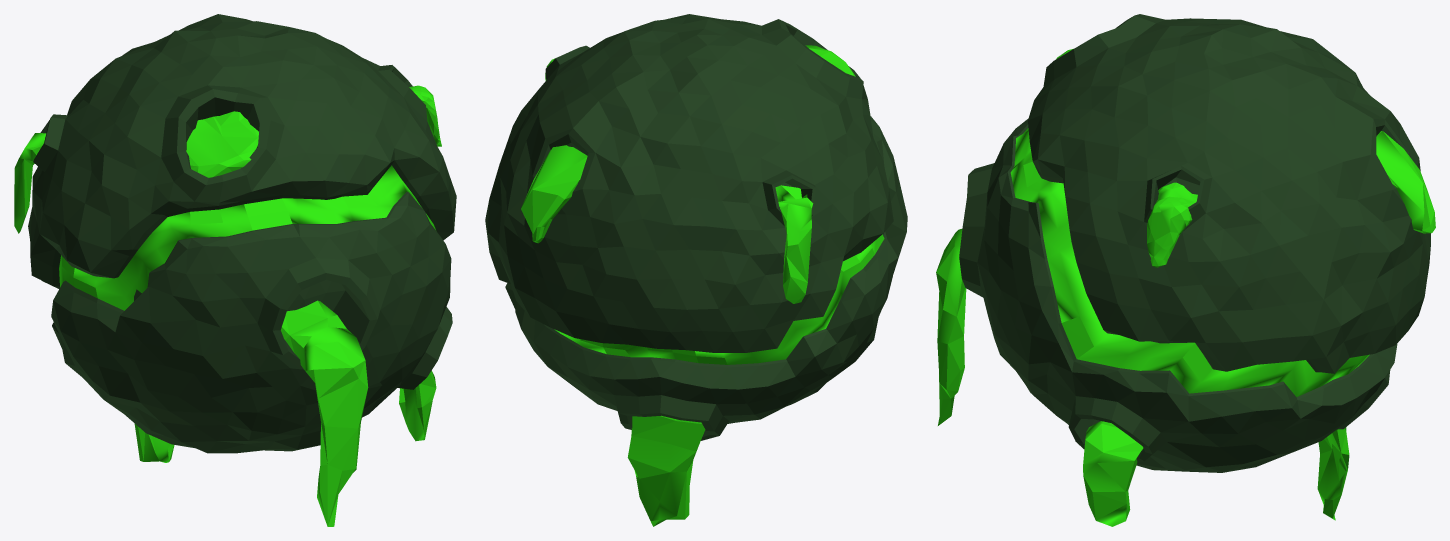
File: toxic_planet.glb
The picture shows the model from 3 angles, left to right: view 1: azimuth 30°, elevation 25°; view 2: azimuth 150°, elevation 25°; view 3: azimuth 270°, elevation 25°; orthographic projection. The views are drawn at different scales.
Parts seen in each view (by area): view 1: ToxicPlanet; view 2: ToxicPlanet; view 3: ToxicPlanet.
Boxes of the visible parts, box(x1,y1,x2,y2) form: ToxicPlanet: box(14, 14, 456, 526); ToxicPlanet: box(485, 14, 907, 526); ToxicPlanet: box(936, 14, 1435, 526).
Size of the model in its own units: 2.03 by 2.42 by 2.23.
